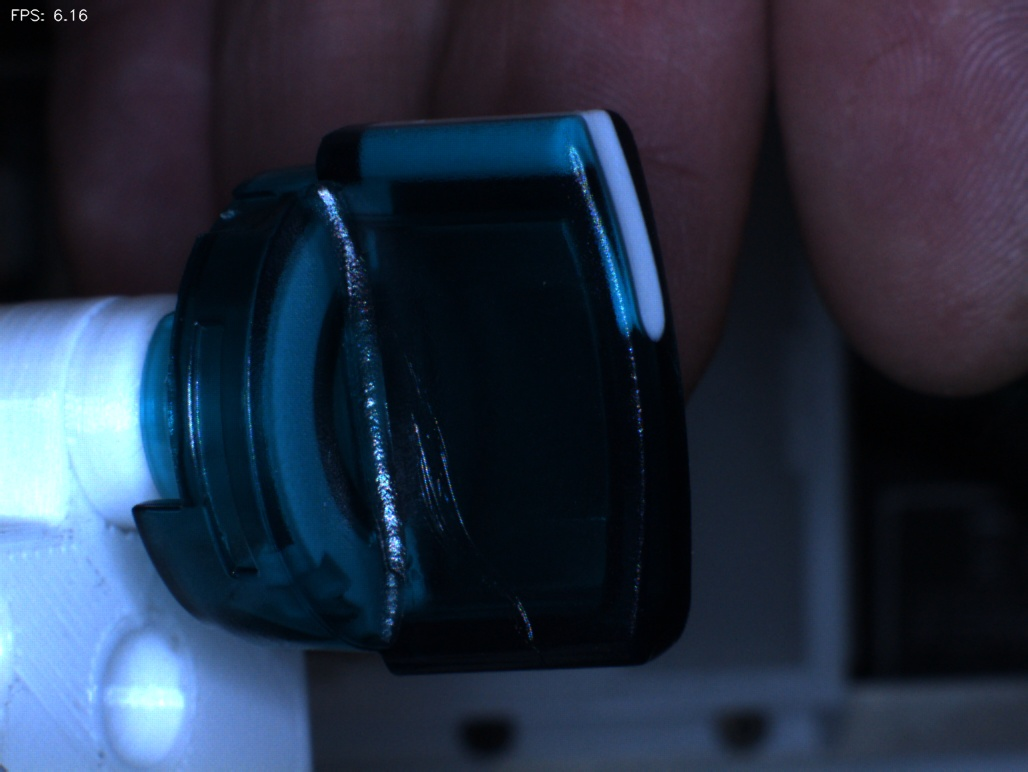Givrage: (391, 347, 543, 643)
